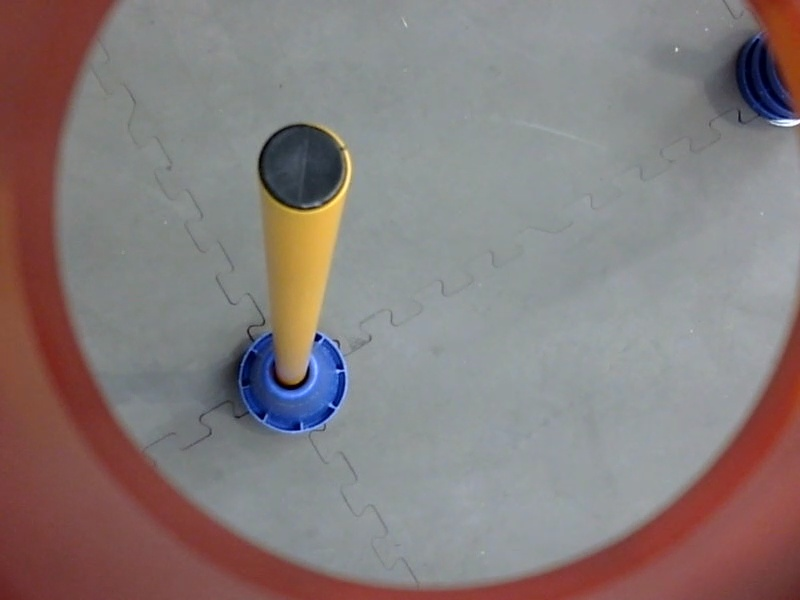tip: (252, 115, 355, 217)
